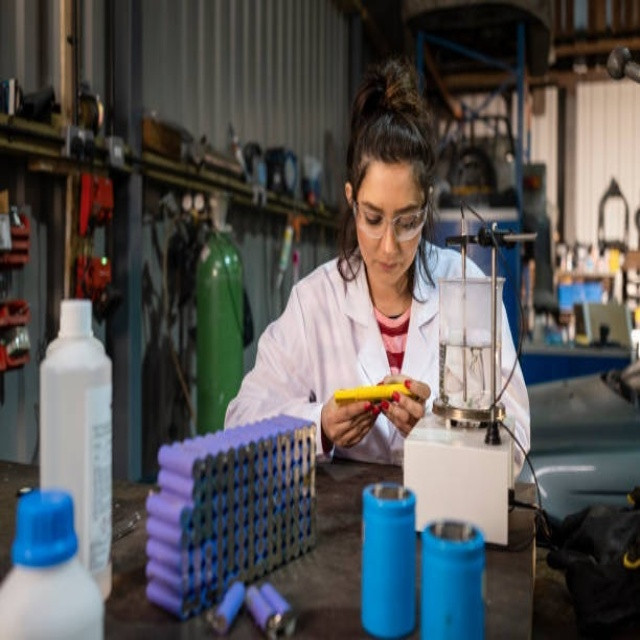Gafas: (354, 192, 430, 243)
Sin_guantes: (327, 378, 424, 450)
Sin_mascara: (372, 248, 407, 281)
